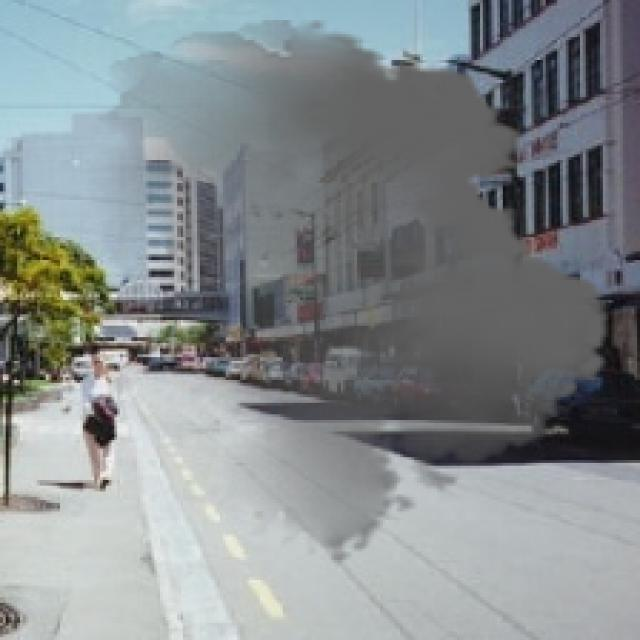smoke: (80, 20, 629, 566)
